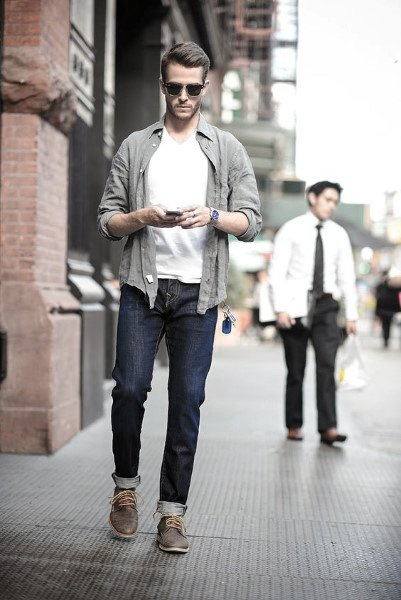NOTSAFE: (125, 38, 235, 310)
